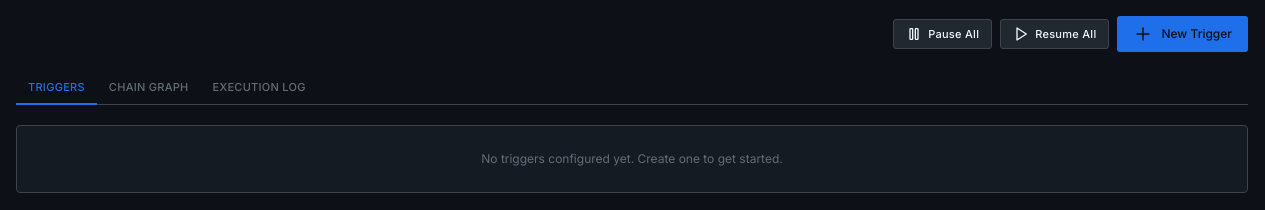
Scenario: TriggerWorkflowPage › switches to Execution Log tab
Step 1. Click the tab "Execution Log" → coordinates (259, 89), box [201,72,318,105]
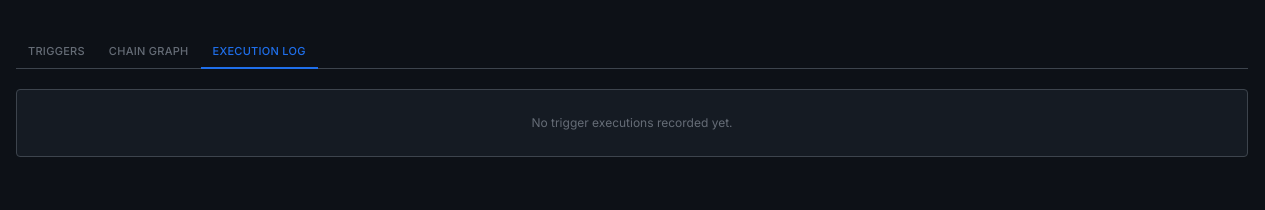
Now the text "No trigger executions recorded yet." is shown, box [531,115,732,130]
